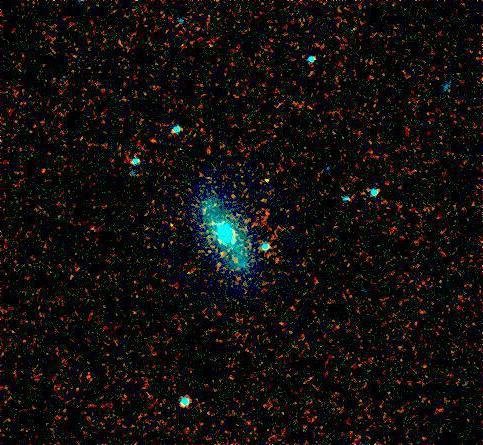star: (251, 167, 281, 197)
